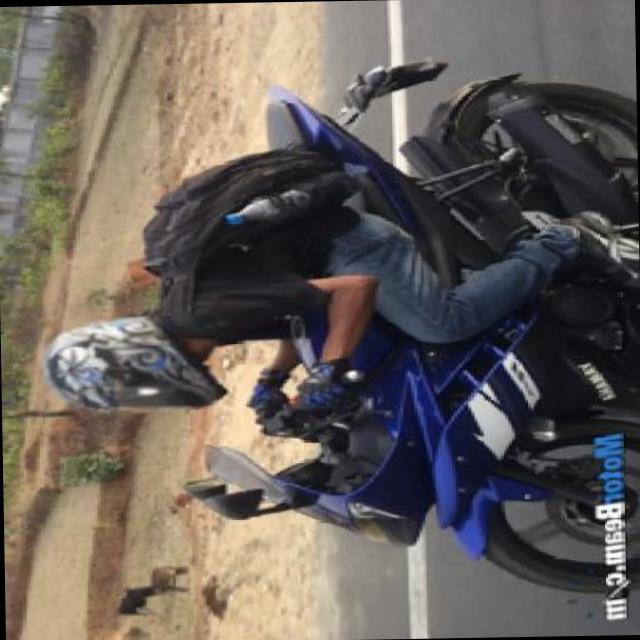With Helmet: (28, 314, 222, 413)
